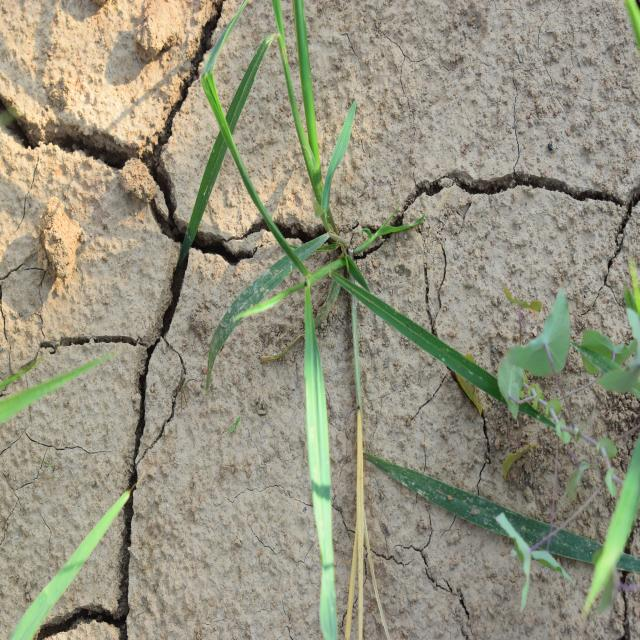green_foxtail: (185, 5, 417, 365)
